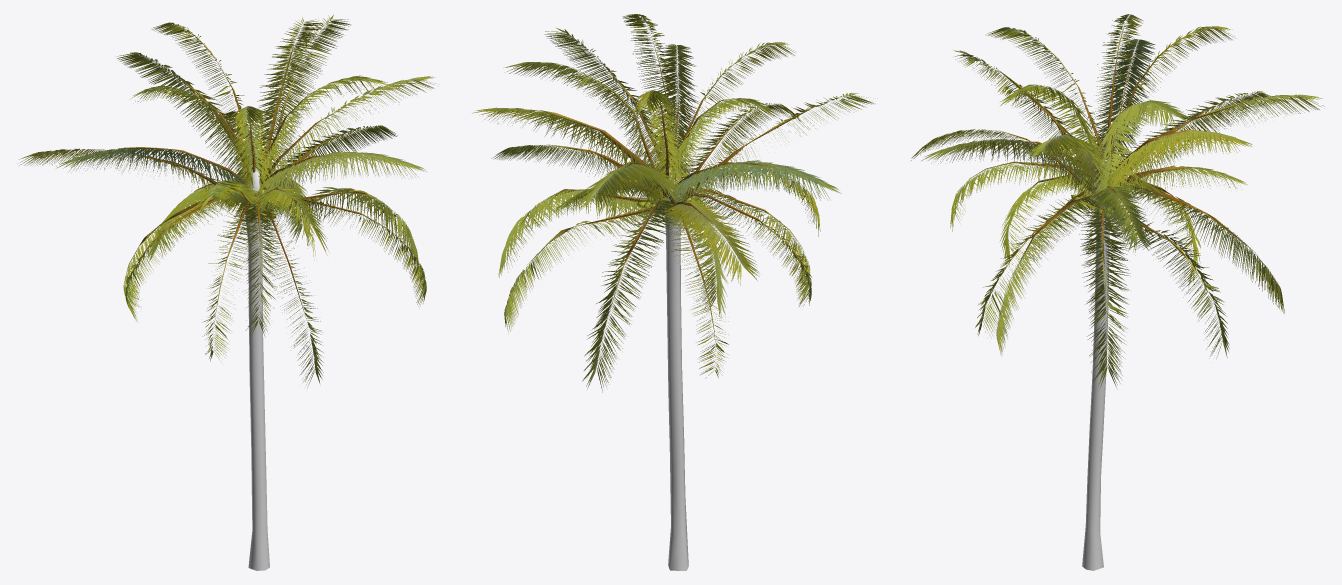
The model's file is SM_PalmTree_B.fbx.
The picture shows the model from 3 angles, left to right: view 1: azimuth 30°, elevation 25°; view 2: azimuth 150°, elevation 25°; view 3: azimuth 270°, elevation 25°; orthographic projection. The views are drawn at different scales.
Parts seen in each view (by area): view 1: SM_PalmTree_B; view 2: SM_PalmTree_B; view 3: SM_PalmTree_B.
Part boxes in pixels (x1,y1,x2,y2): SM_PalmTree_B: (19,14,438,570); SM_PalmTree_B: (472,14,873,570); SM_PalmTree_B: (911,14,1324,570).
Size of what is drawn, in the model's own units: 6.01 by 8.5 by 6.15.
